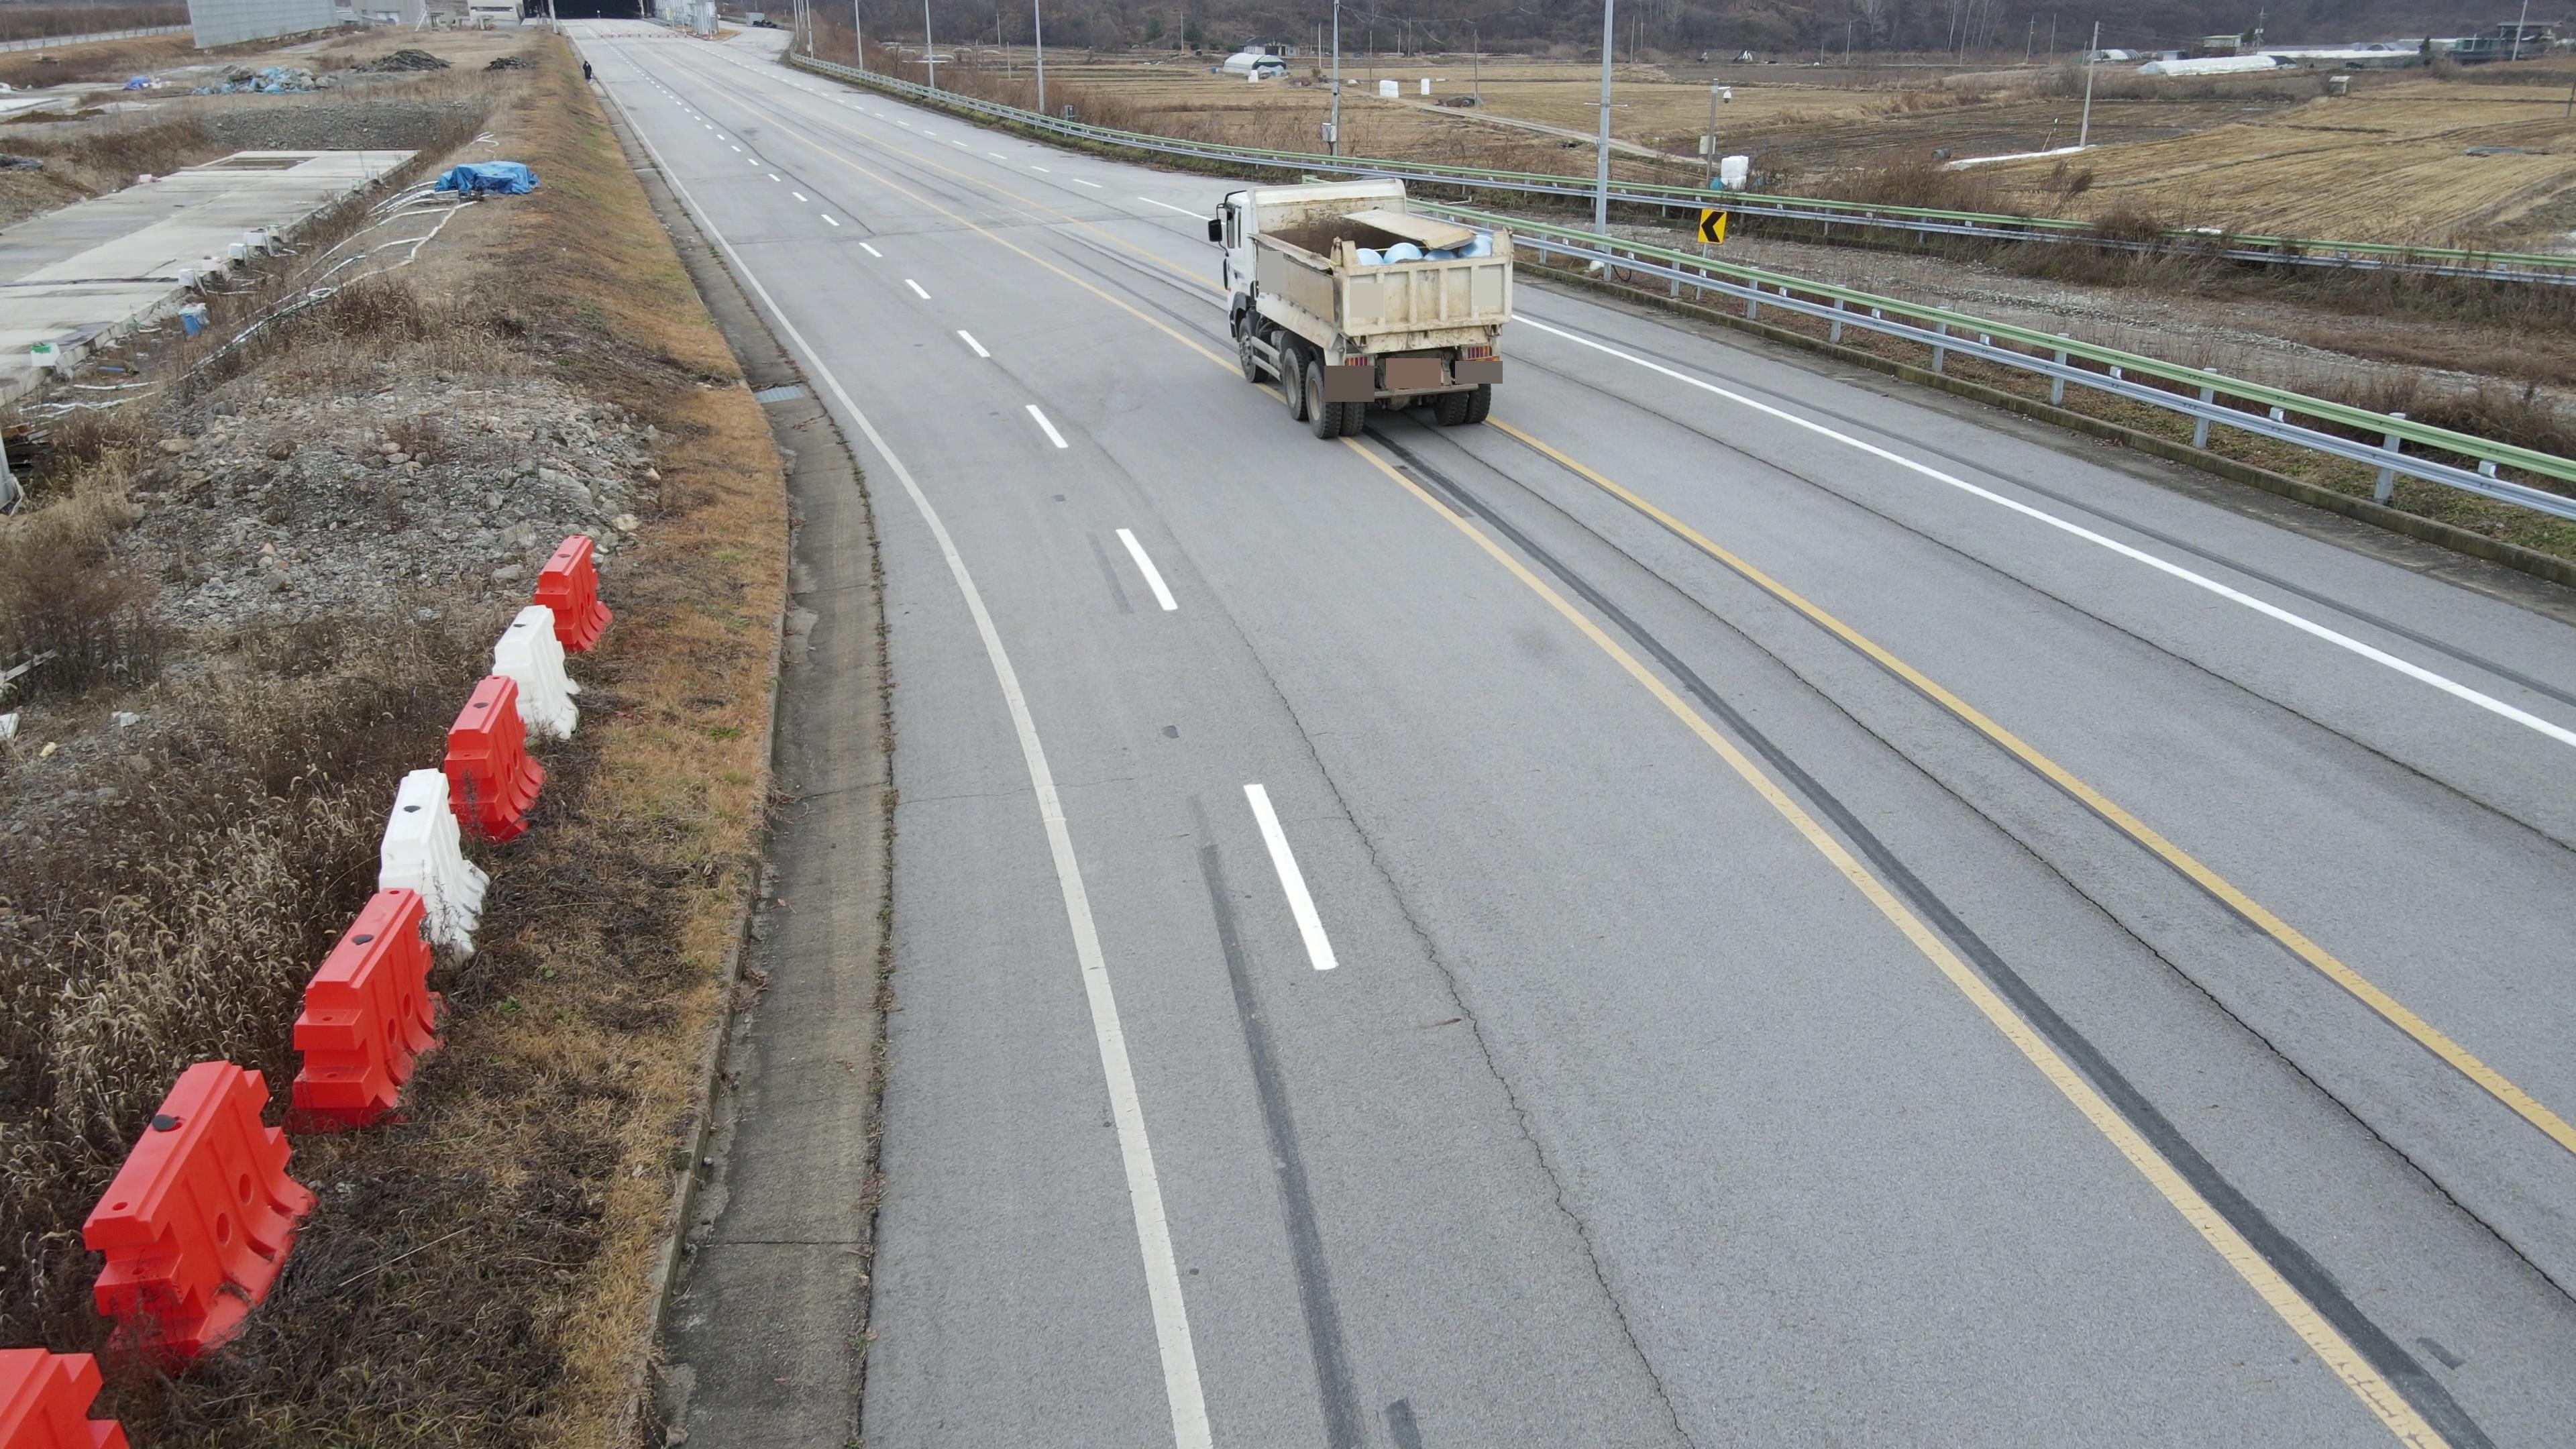불법차량: (1208, 175, 1514, 439)
